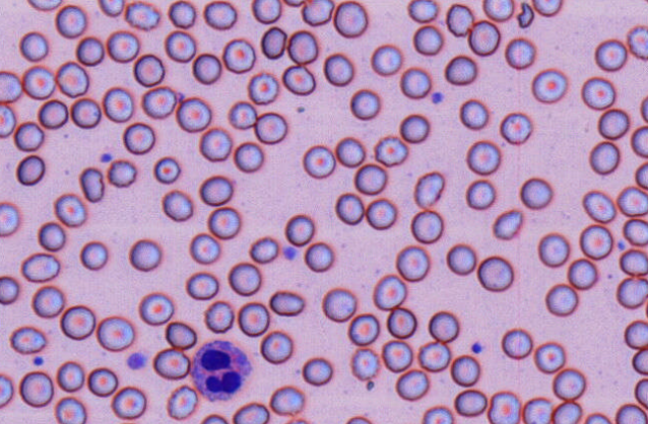GRAN: (192, 340, 255, 402)
PLT: (128, 352, 147, 370), (282, 246, 299, 263), (431, 91, 445, 106), (99, 151, 113, 164), (471, 341, 484, 353), (33, 355, 45, 367)
RBC: (96, 315, 134, 351), (477, 255, 513, 291), (176, 96, 211, 132), (60, 304, 95, 340), (531, 68, 567, 103), (19, 370, 53, 407), (333, 0, 367, 37), (55, 60, 89, 97), (110, 385, 146, 419), (372, 274, 406, 310), (466, 139, 500, 175), (153, 347, 190, 380), (467, 19, 500, 56), (322, 287, 356, 322), (138, 292, 174, 325), (396, 245, 429, 281), (141, 85, 177, 118), (21, 252, 60, 282), (582, 189, 616, 223), (581, 76, 615, 110), (579, 224, 612, 259), (222, 38, 255, 73), (259, 330, 292, 364), (410, 209, 443, 243), (228, 261, 261, 295), (302, 144, 335, 178), (22, 65, 55, 99), (166, 384, 198, 419), (237, 301, 269, 336), (286, 29, 318, 64), (487, 390, 520, 423), (552, 367, 585, 400), (545, 283, 578, 316), (354, 162, 387, 195), (207, 206, 240, 239), (499, 111, 532, 144), (254, 111, 287, 144), (594, 38, 627, 71), (395, 368, 429, 400), (199, 174, 233, 206), (54, 193, 86, 227), (199, 127, 231, 161), (269, 385, 304, 416), (538, 232, 569, 267), (102, 87, 133, 122), (124, 0, 160, 30), (9, 325, 46, 354), (129, 238, 161, 271), (32, 285, 64, 318), (122, 122, 155, 154), (247, 71, 279, 104), (106, 30, 139, 62), (55, 4, 86, 38), (133, 53, 164, 87), (202, 0, 237, 30), (616, 276, 648, 308), (418, 340, 450, 372), (533, 341, 565, 373), (161, 189, 193, 221), (520, 177, 552, 209), (164, 30, 196, 62), (381, 339, 412, 372), (203, 300, 234, 333), (348, 312, 379, 345), (374, 135, 407, 166), (504, 36, 535, 69), (282, 64, 315, 95), (589, 140, 619, 174), (323, 52, 353, 86), (501, 327, 532, 359), (189, 232, 220, 264), (400, 66, 431, 98), (444, 54, 476, 85), (349, 88, 380, 120), (370, 44, 402, 75), (597, 108, 629, 139), (428, 310, 458, 343), (284, 213, 314, 246), (350, 347, 379, 381), (87, 366, 118, 397), (365, 198, 396, 229), (70, 97, 101, 128), (450, 354, 480, 386), (446, 243, 476, 275), (567, 257, 597, 289), (185, 271, 218, 300), (445, 3, 473, 37), (386, 307, 416, 338), (412, 24, 442, 55), (233, 141, 263, 172), (335, 136, 365, 167), (37, 98, 68, 128), (335, 192, 364, 224), (192, 52, 221, 84), (454, 388, 487, 416), (269, 290, 304, 316), (617, 186, 647, 216), (465, 179, 495, 209), (399, 113, 429, 143), (14, 121, 44, 151), (301, 356, 332, 385), (304, 241, 333, 272), (16, 154, 45, 185), (459, 98, 488, 129), (75, 35, 104, 66), (56, 360, 84, 392), (260, 26, 287, 59), (227, 100, 257, 129), (19, 31, 48, 61), (54, 396, 86, 423), (301, 0, 334, 26), (232, 401, 269, 423), (107, 159, 136, 187), (167, 0, 196, 28), (38, 221, 65, 251), (80, 240, 107, 270), (619, 248, 647, 276), (249, 236, 278, 263), (522, 397, 552, 423), (153, 156, 180, 184), (0, 70, 22, 103), (624, 319, 648, 349), (627, 24, 647, 59), (551, 400, 581, 423), (251, 0, 281, 23), (623, 218, 647, 246), (407, 0, 437, 22), (482, 0, 513, 21), (0, 202, 19, 236), (615, 403, 647, 423), (421, 405, 453, 423), (0, 275, 18, 304), (631, 125, 647, 157), (531, 0, 562, 16), (0, 104, 15, 137), (632, 348, 648, 375), (97, 0, 124, 16), (0, 374, 13, 407), (634, 377, 647, 408), (27, 0, 62, 10), (635, 161, 647, 189), (584, 412, 612, 423), (200, 413, 228, 423), (640, 94, 648, 122), (345, 415, 372, 423), (282, 0, 304, 7), (285, 417, 309, 423), (645, 293, 648, 320)
Schistocyte: (415, 171, 446, 210), (491, 210, 526, 240), (79, 167, 104, 203), (166, 322, 198, 350), (516, 0, 535, 27)
